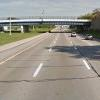Bridge: (3, 10, 89, 35)
